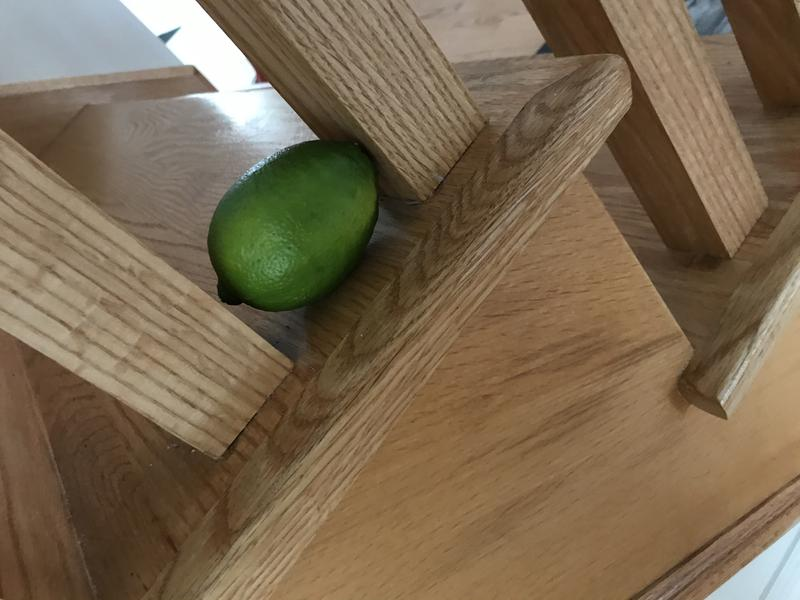lime: (199, 129, 388, 323)
